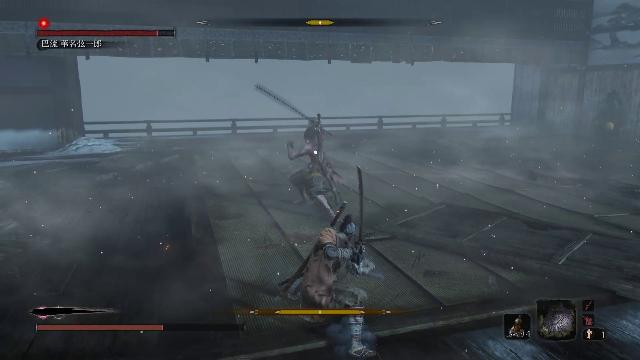sk: (296, 216, 380, 356)
